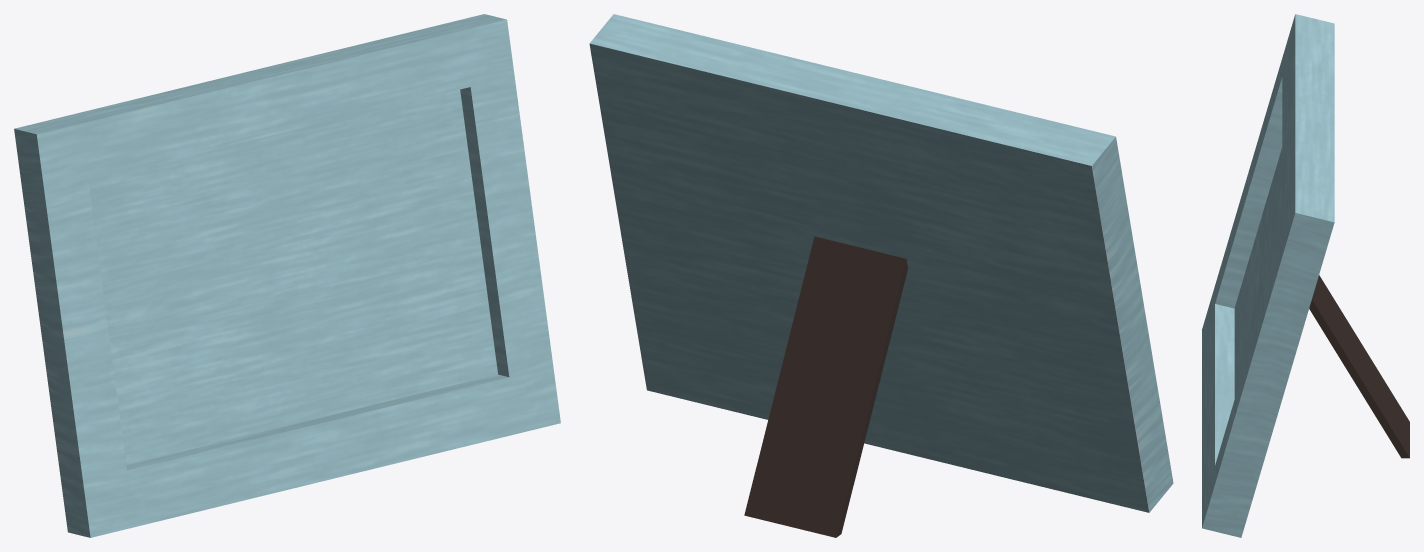
The model's file is Photoframe.fbx.
The picture shows the model from 3 angles, left to right: view 1: azimuth 30°, elevation 25°; view 2: azimuth 150°, elevation 25°; view 3: azimuth 270°, elevation 25°; orthographic projection. The views are drawn at different scales.
Parts seen in each view (by area): view 1: Photoframe; view 2: Photoframe; view 3: Photoframe.
Part boxes in pixels (left/top/right/bottom): Photoframe: left=14, top=14, right=560, bottom=537; Photoframe: left=589, top=14, right=1173, bottom=537; Photoframe: left=1202, top=14, right=1409, bottom=537.
Bounding box in the file's own units: 2.59 × 1.97 × 1.14.
